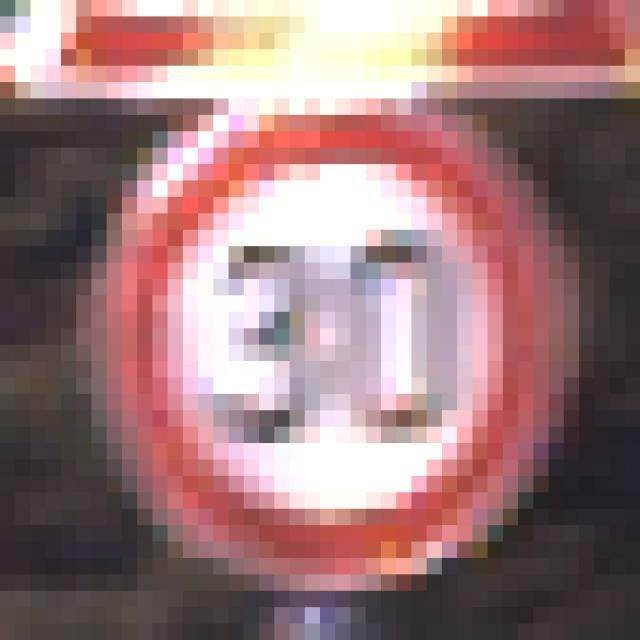Speed Limit -30-: (69, 74, 542, 550)
